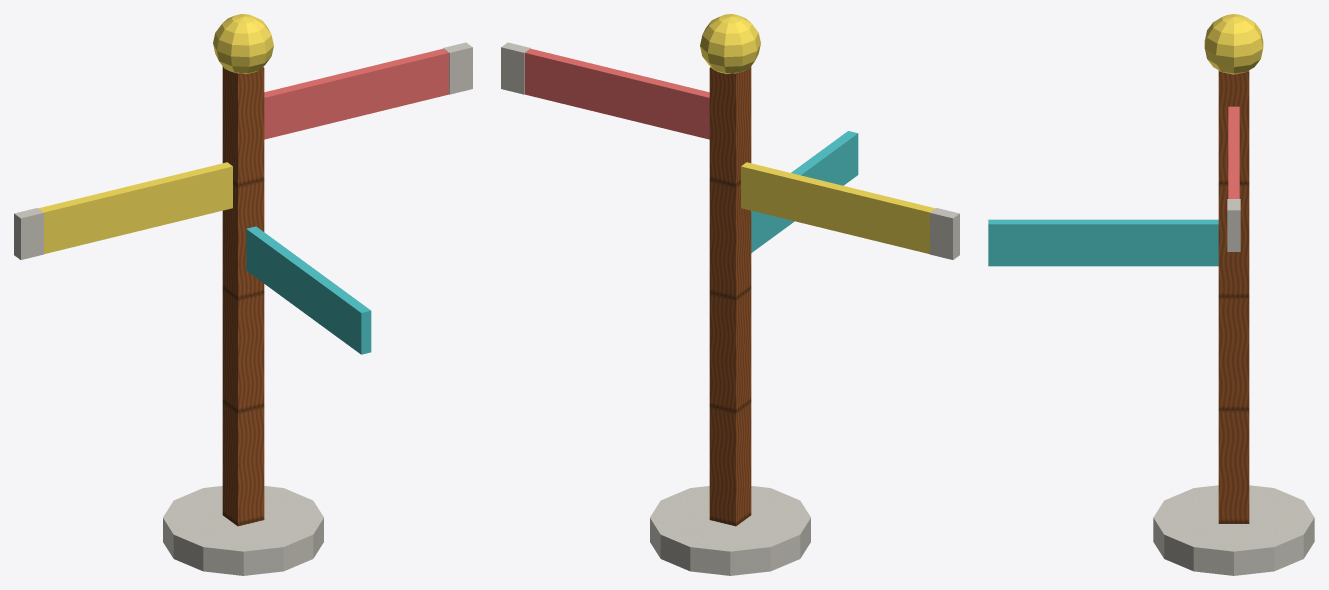
File: theme-park-rides-and-coasters-theme-park-rides-and-coa-acd9443e__28711.glb
The picture shows the model from 3 angles, left to right: view 1: azimuth 30°, elevation 25°; view 2: azimuth 150°, elevation 25°; view 3: azimuth 270°, elevation 25°; orthographic projection.
Visible parts, largest first — view 1: theme-park-rides-and-coasters-signpost-three-fingers; view 2: theme-park-rides-and-coasters-signpost-three-fingers; view 3: theme-park-rides-and-coasters-signpost-three-fingers.
Part boxes in pixels (x1,y1,x2,y2): theme-park-rides-and-coasters-signpost-three-fingers: (14,14,472,575); theme-park-rides-and-coasters-signpost-three-fingers: (501,14,959,575); theme-park-rides-and-coasters-signpost-three-fingers: (988,14,1314,575).
Bounding box in the file's own units: 2.72 × 3.02 × 1.7.
5 materials, 2 textured.
